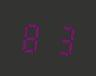eight: (19, 18, 46, 55)
three: (47, 19, 74, 57)
